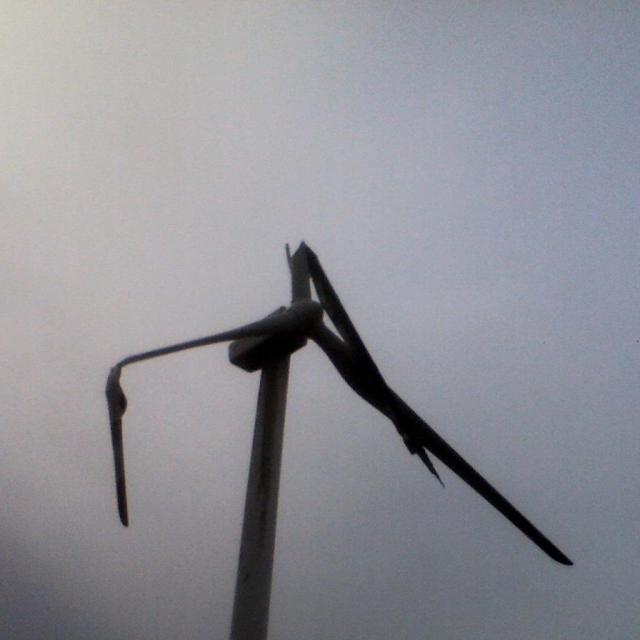crack: (283, 229, 436, 488), (90, 347, 163, 531)
